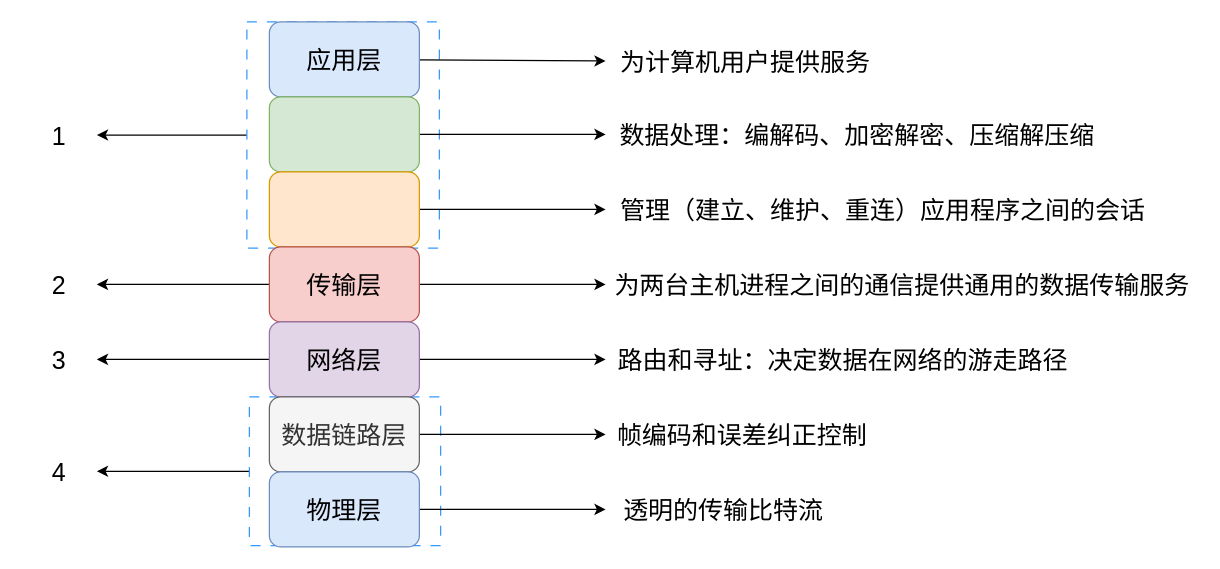
This 1220x569 diagram has some shape labels left out. Here are the shapes that lost their labels. From the top down, the centre of each, then its label:
(x=343, y=134): 表示层
(x=343, y=209): 会话层
